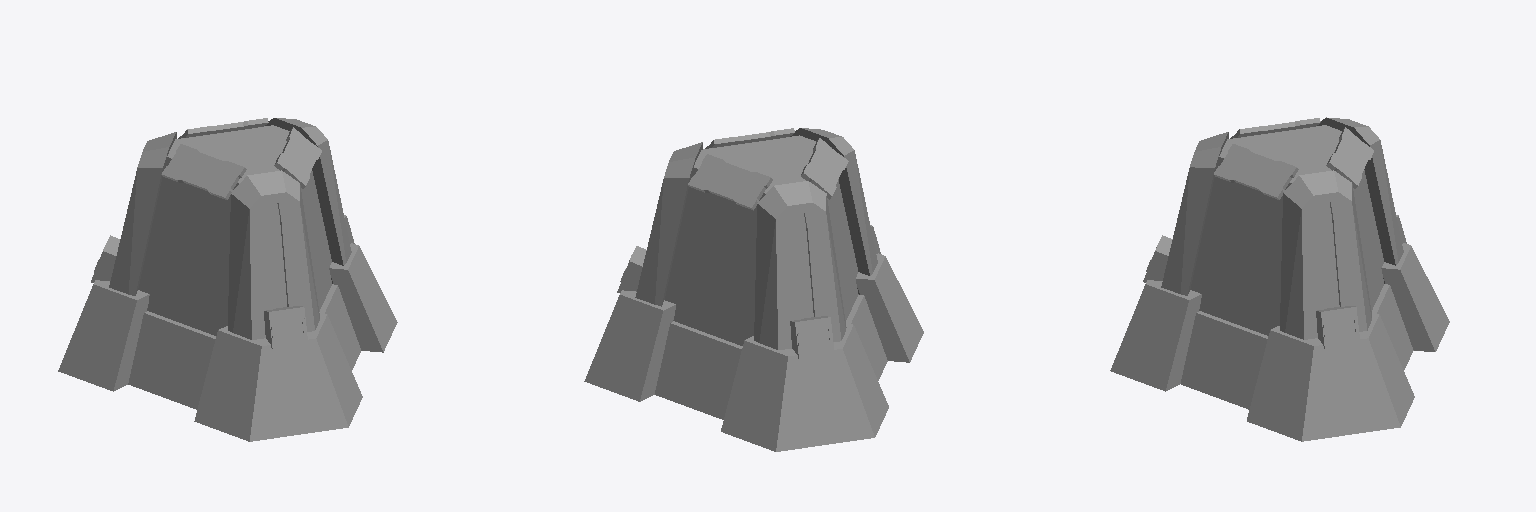
The picture shows the model from 3 angles: view 1: azimuth 30°, elevation 25°; view 2: azimuth 150°, elevation 25°; view 3: azimuth 270°, elevation 25°; orthographic projection.
Visible parts, largest first — view 1: base_锥体; view 2: base_锥体; view 3: base_锥体.
Boxes of the visible parts, x1,y1,x2,y2 form: base_锥体: [58, 118, 397, 441]; base_锥体: [584, 128, 923, 451]; base_锥体: [1110, 117, 1449, 441].
Size of the model in its own units: 8.96 by 6.25 by 8.64.